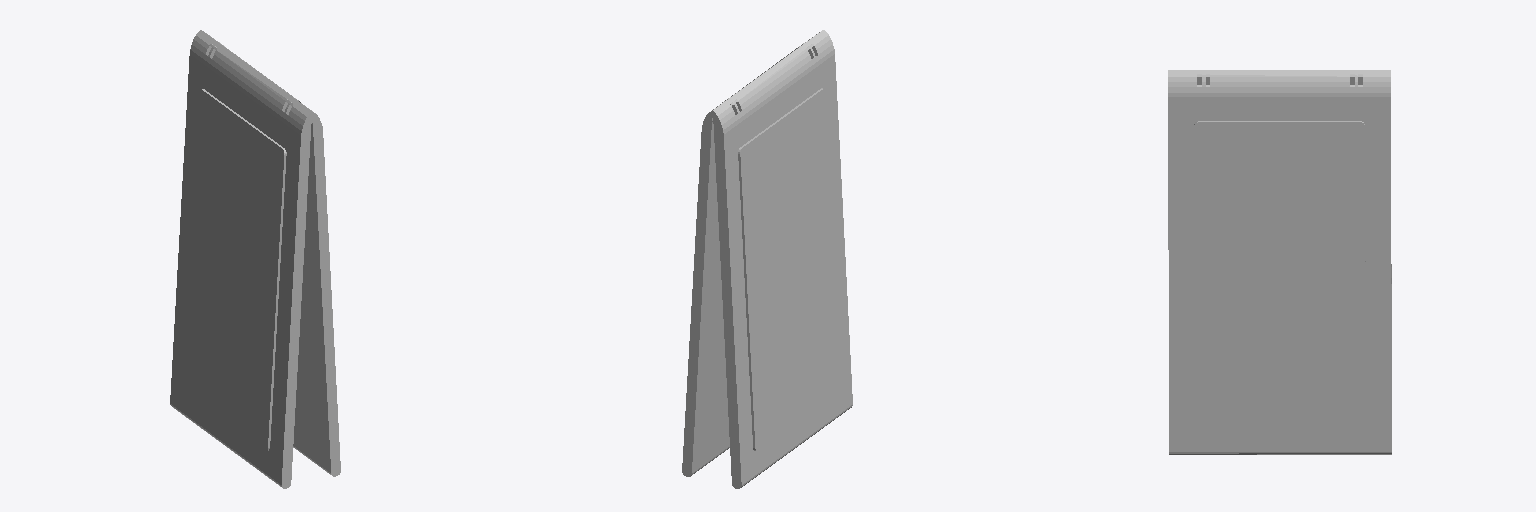
File: WarningSignFolded.obj
3 views of the same model, side by side, from view 1: azimuth 30°, elevation 25°; view 2: azimuth 150°, elevation 25°; view 3: azimuth 270°, elevation 25° (orthographic).
Visible parts, largest first — view 1: Cube.002; view 2: Cube.002; view 3: Cube.002.
Boxes of the visible parts, box(x1,y1,x2,y2) form: Cube.002: box(170, 30, 340, 488); Cube.002: box(682, 30, 852, 488); Cube.002: box(1168, 70, 1391, 454).
Bounding box in the file's own units: 0.3577 × 2.07 × 1.13.